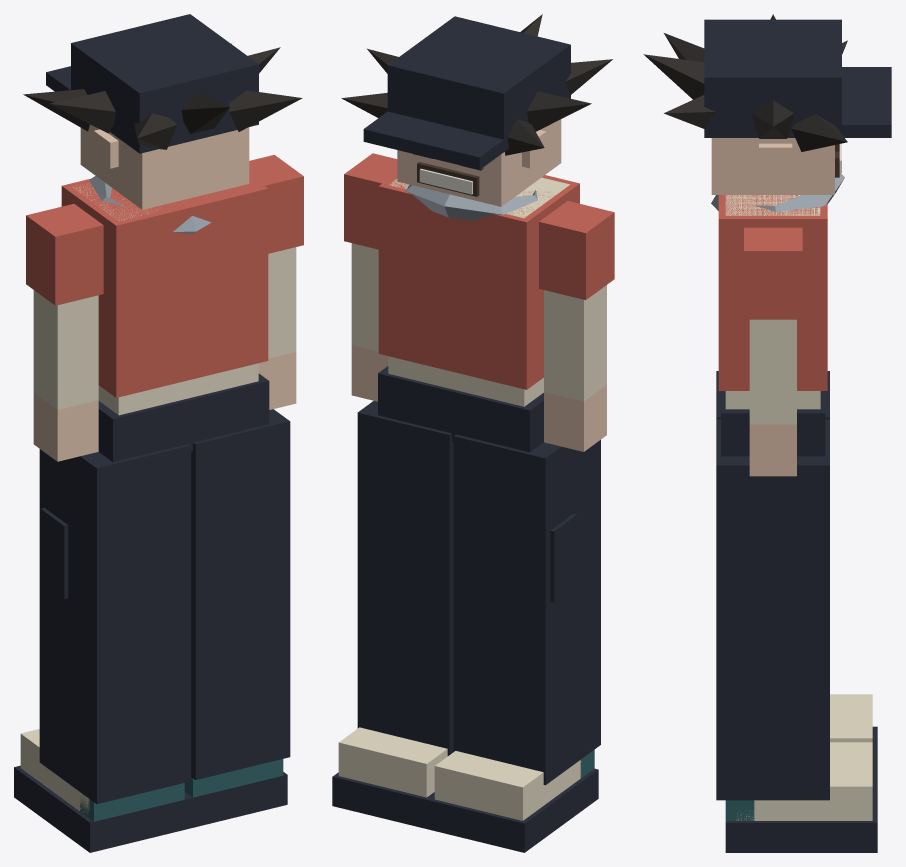
File: jax.glb
3 views of the same model, side by side, from view 1: azimuth 30°, elevation 25°; view 2: azimuth 150°, elevation 25°; view 3: azimuth 270°, elevation 25° (orthographic). The views are drawn at different scales.
Parts seen in each view (by area): view 1: PantsL, PantsR, Tee, Cap, Face, Waist, SleeveL, TeeSleeveL, SoleL, TeeSleeveR, HandL, Undershirt (+14 smaller); view 2: PantsL, PantsR, Tee, Cap, Waist, TeeSleeveL, SleeveL, ShoeL, SoleL, ShoeR, Brim, Face (+14 smaller); view 3: PantsR, Cap, Tee, Face, TeeSleeveR, SoleR, SleeveR, ShoeR, Brim, Waist, HandR, Undershirt (+9 smaller).
Boxes of the visible parts, <box> form: PantsL: <box>39,443,191,803</box>; PantsR: <box>191,409,290,779</box>; Tee: <box>61,175,268,397</box>; Cap: <box>71,14,258,153</box>; Face: <box>80,124,249,209</box>; Waist: <box>98,373,269,461</box>; SleeveL: <box>33,290,98,409</box>; TeeSleeveL: <box>26,203,103,305</box>; SoleL: <box>14,765,188,852</box>; TeeSleeveR: <box>249,155,303,253</box>; HandL: <box>33,393,98,461</box>; Undershirt: <box>73,183,258,415</box>; PantsL: <box>453,434,600,785</box>; PantsR: <box>357,401,453,755</box>; Tee: <box>378,173,579,389</box>; Cap: <box>387,16,570,151</box>; Waist: <box>378,366,543,452</box>; TeeSleeveL: <box>539,201,614,299</box>; SleeveL: <box>544,285,606,401</box>; ShoeL: <box>434,751,582,820</box>; SoleL: <box>428,768,598,852</box>; ShoeR: <box>338,727,447,797</box>; Brim: <box>363,111,508,169</box>; Face: <box>397,119,561,206</box>; PantsR: <box>716,419,829,800</box>; Cap: <box>704,19,841,137</box>; Tee: <box>718,195,827,390</box>; Face: <box>711,138,834,194</box>; TeeSleeveR: <box>744,227,802,319</box>; SoleR: <box>725,775,877,852</box>; SleeveR: <box>749,319,796,424</box>; ShoeR: <box>736,742,872,820</box>; Brim: <box>835,67,891,137</box>; Waist: <box>721,391,825,456</box>; HandR: <box>749,424,796,476</box>; Undershirt: <box>725,195,820,409</box>.
Size of the model in its own units: 0.604 by 1.76 by 0.5242.
